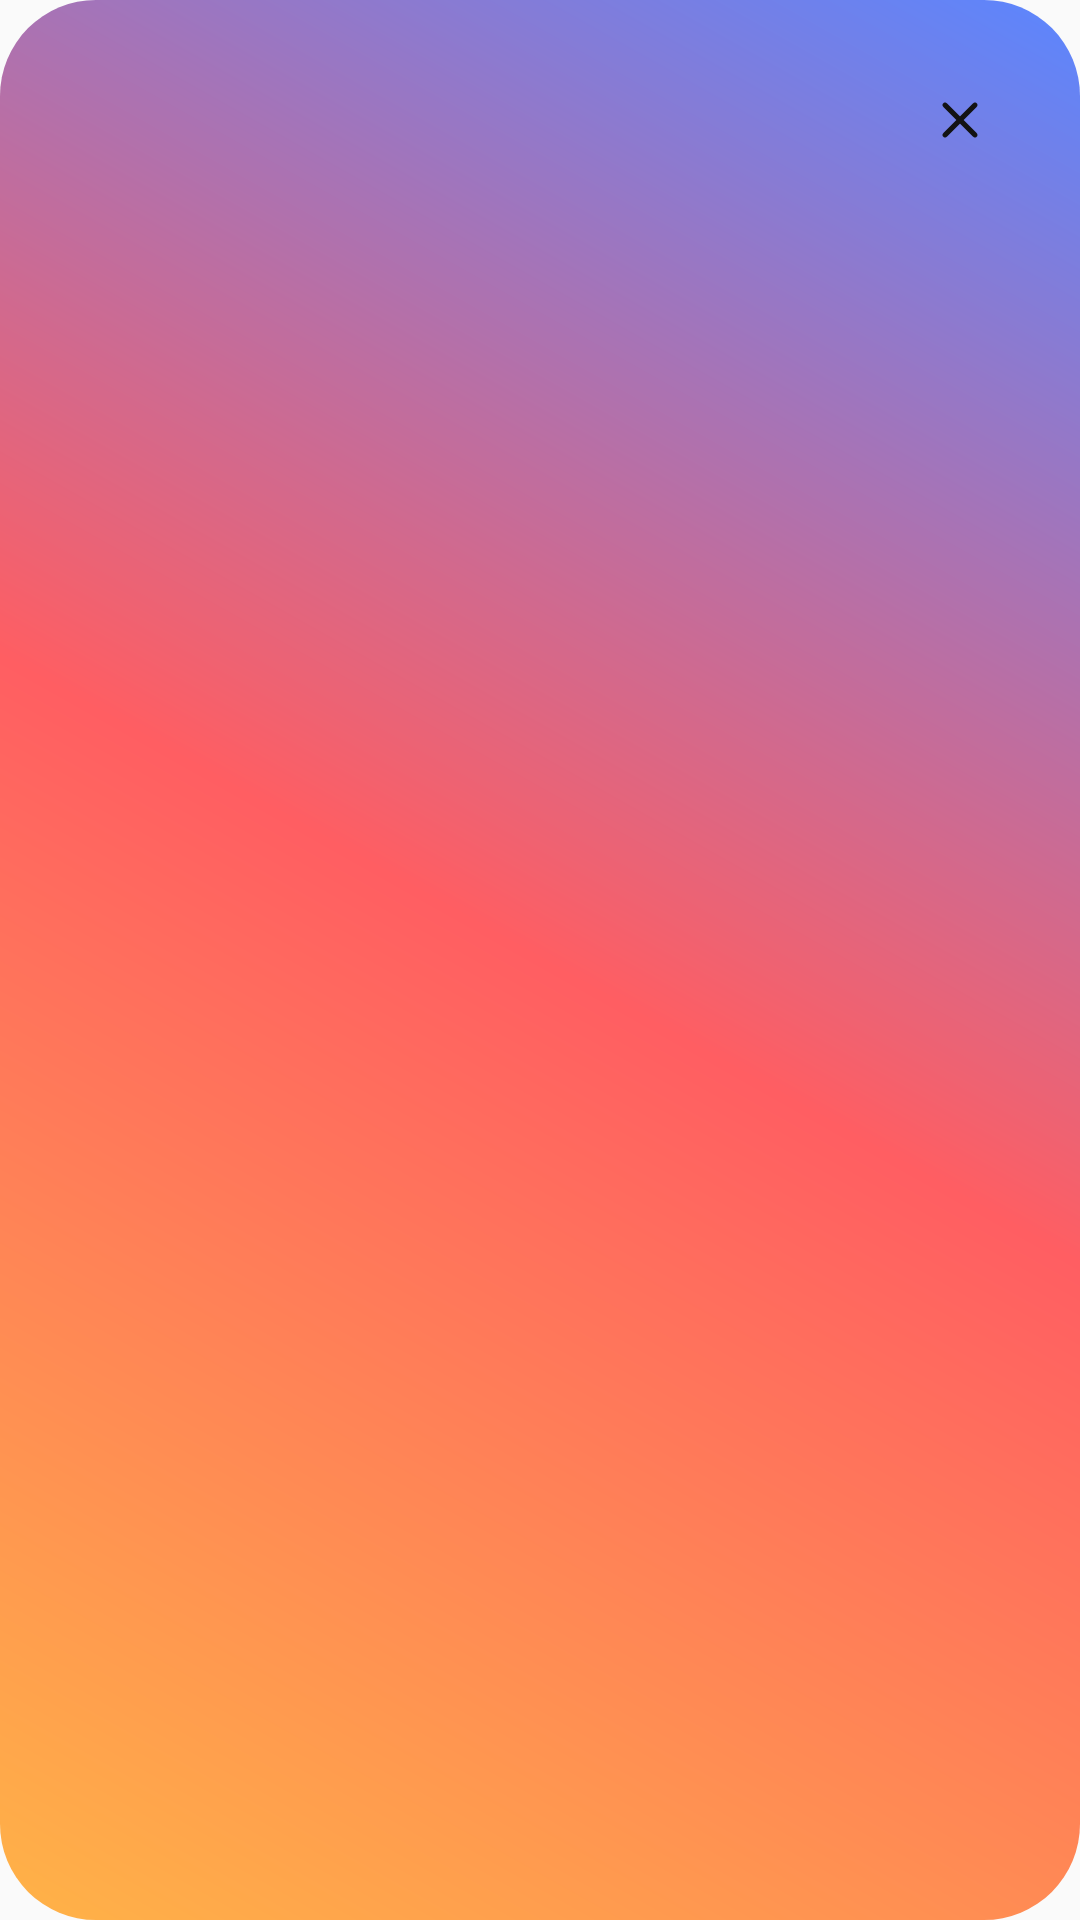

Screen size 1080 x 1920. Icon name, then its center in pixels as (x=x, y=y):
Kapat: (x=960, y=120)
